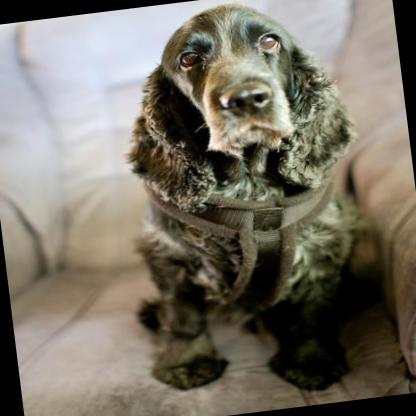cocker_spaniel: (100, 0, 382, 404)
